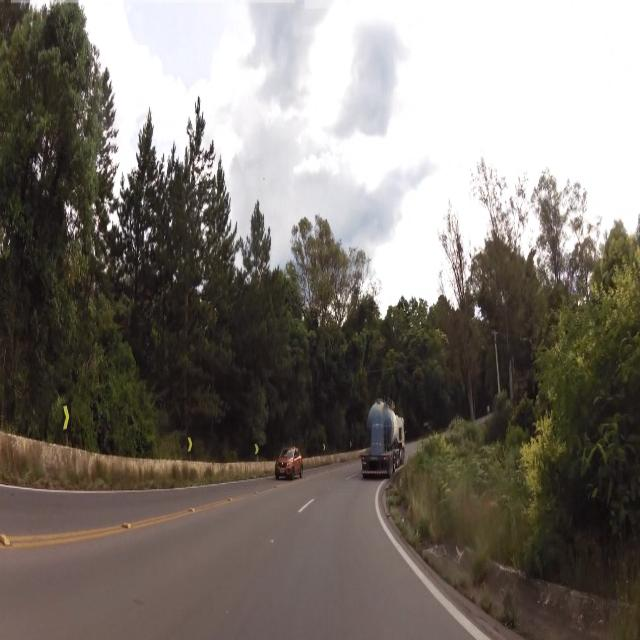Del: (60, 405, 72, 433), (185, 432, 194, 456)
